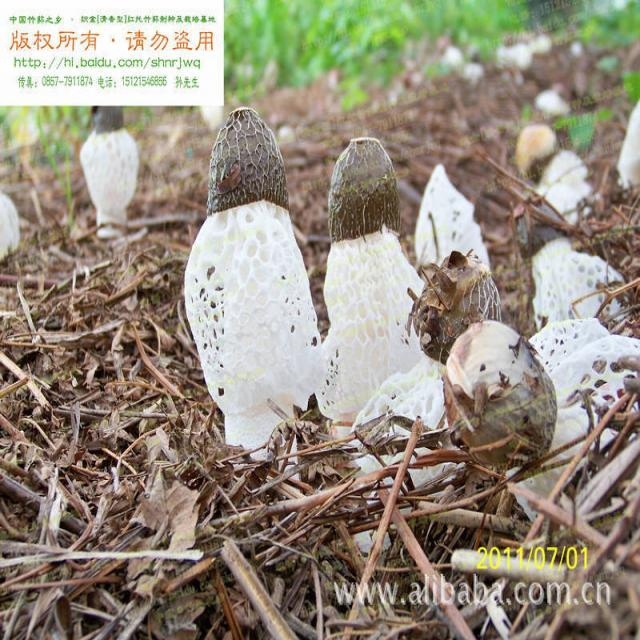Dictyophora indusiate: (359, 260, 640, 443), (184, 112, 326, 448), (325, 136, 430, 423), (79, 108, 138, 233)
